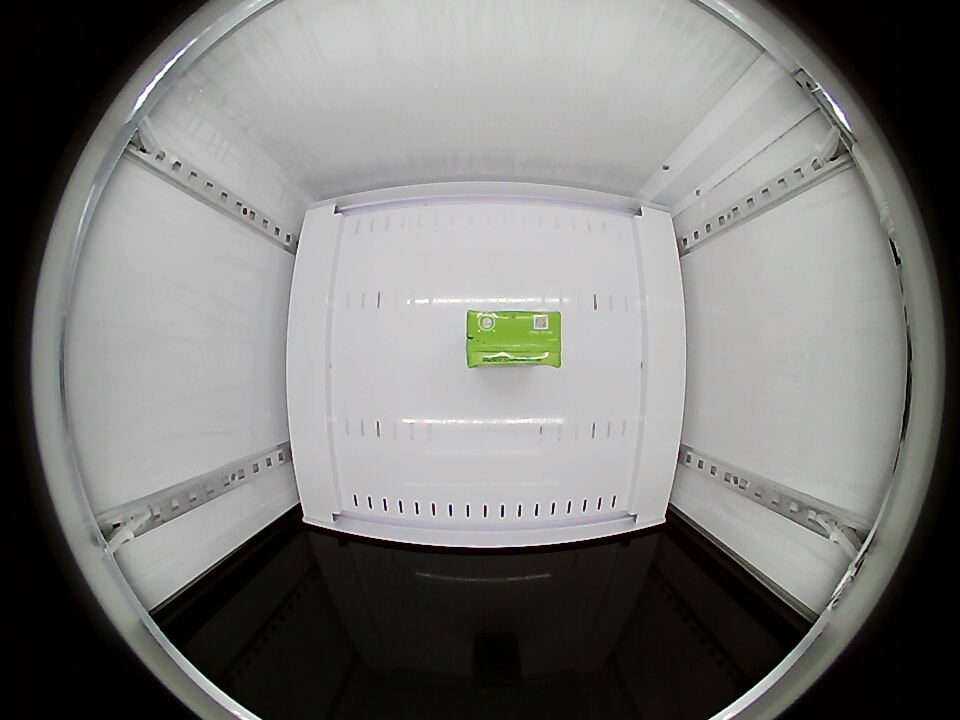mengniuzaocan: (466, 309, 562, 366)
